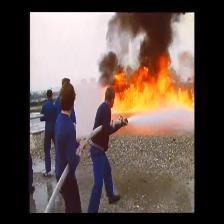fire: (111, 71, 194, 114)
smoke: (102, 12, 183, 67)
